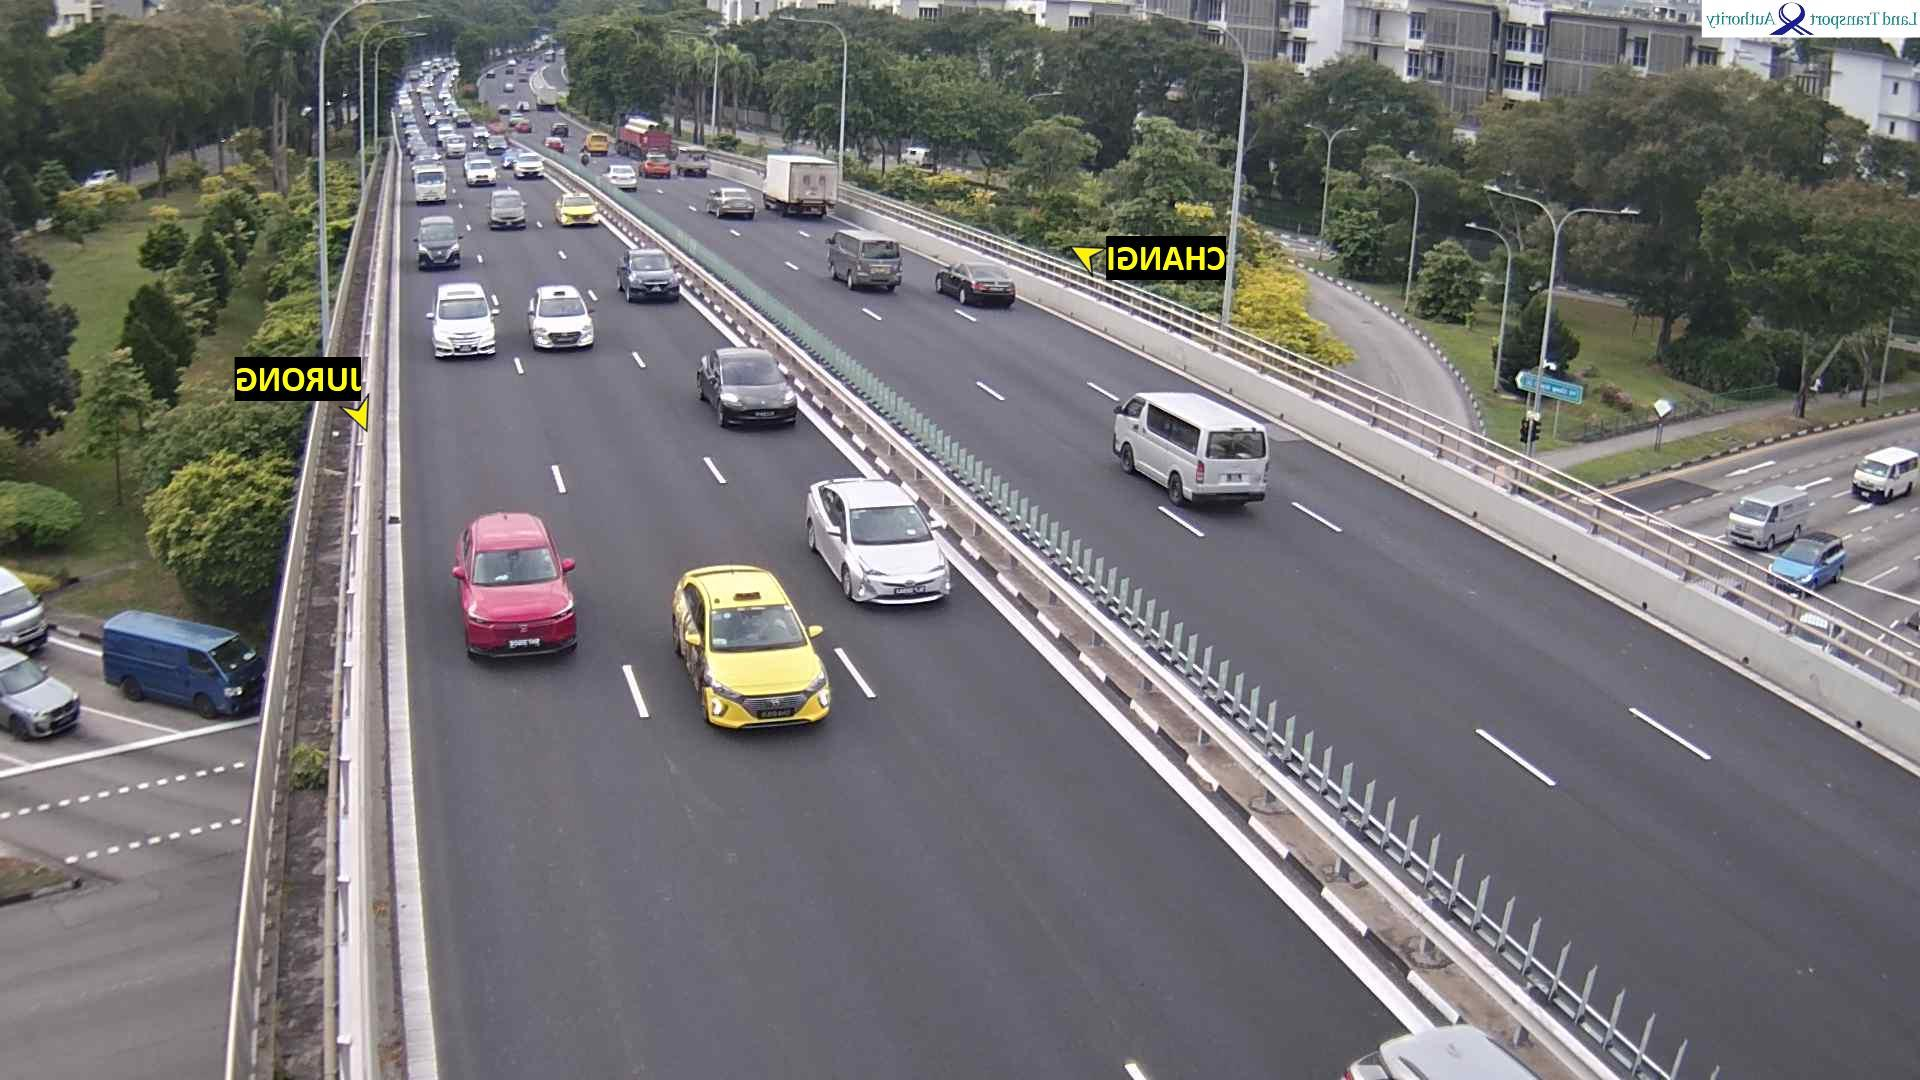cars: (673, 562, 833, 731), (804, 475, 952, 607), (452, 510, 579, 659), (1113, 390, 1273, 506), (102, 608, 268, 719), (1342, 1023, 1543, 1077), (698, 345, 800, 429), (1, 644, 82, 738), (1727, 483, 1815, 550), (426, 281, 501, 357), (1768, 529, 1847, 593), (827, 227, 905, 291), (1, 564, 55, 651), (527, 284, 596, 351), (936, 260, 1017, 309), (1853, 444, 1920, 502), (617, 247, 683, 302), (414, 214, 469, 268), (705, 185, 758, 219), (488, 187, 527, 229), (555, 191, 601, 225), (413, 162, 450, 203), (676, 145, 712, 177), (464, 154, 498, 186), (605, 160, 640, 190), (513, 150, 546, 178), (644, 150, 673, 178), (582, 132, 611, 157), (84, 167, 117, 189), (444, 133, 469, 158), (413, 145, 440, 166), (542, 133, 566, 156), (485, 132, 508, 156), (500, 145, 521, 169), (426, 111, 451, 128), (404, 136, 427, 153), (550, 119, 570, 138), (512, 116, 534, 133), (436, 125, 455, 145), (402, 121, 422, 137), (396, 104, 415, 120), (514, 67, 529, 84), (455, 113, 473, 127), (502, 59, 517, 75), (472, 125, 488, 140), (406, 69, 422, 83), (423, 103, 440, 116), (493, 103, 512, 115), (524, 58, 538, 73), (516, 98, 531, 111), (509, 112, 524, 125), (436, 87, 451, 100), (398, 92, 413, 105), (452, 108, 468, 120), (402, 112, 418, 124), (446, 103, 460, 115), (418, 90, 433, 102), (485, 67, 497, 80), (443, 95, 456, 107), (504, 80, 516, 92), (422, 98, 436, 107), (417, 80, 431, 88)
motorcycle: (576, 141, 592, 167), (472, 135, 487, 156), (518, 103, 525, 113)
trucks: (764, 153, 840, 219), (611, 109, 674, 161), (534, 84, 559, 112), (542, 49, 556, 63)
